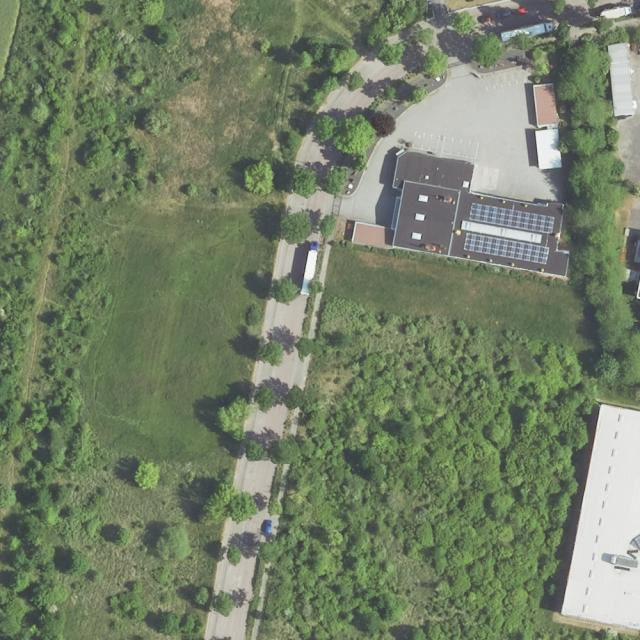PV: (462, 233, 549, 265), (468, 202, 553, 233)
